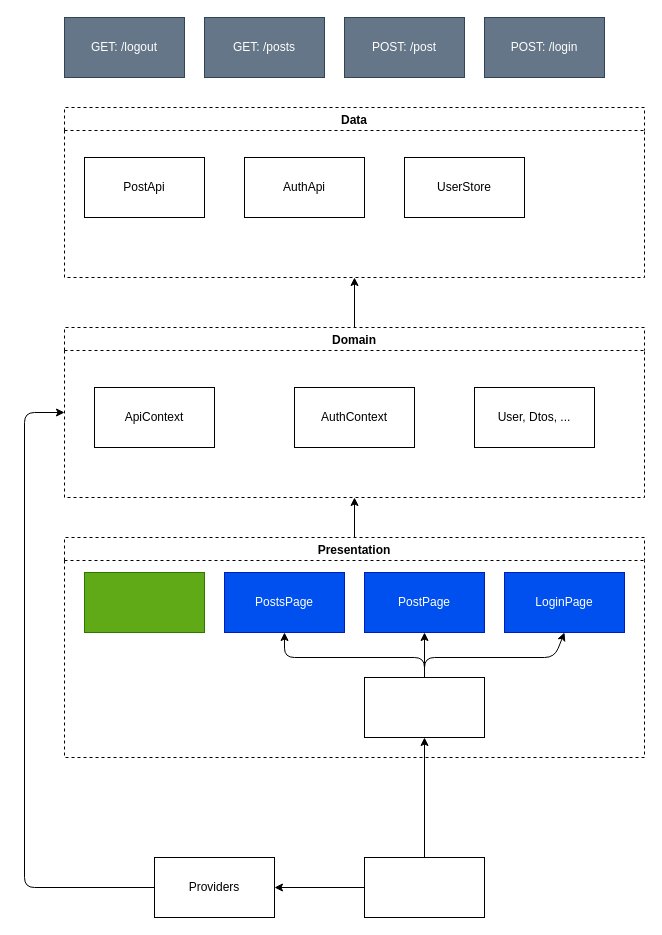
The diagram is 662 pixels wide and 935 high, and some of its shapes have lost their labels. Each missing label, with the centre of its shape:
<App />: pixel 424 887
<Router />: pixel 424 707
Components: pixel 144 602
